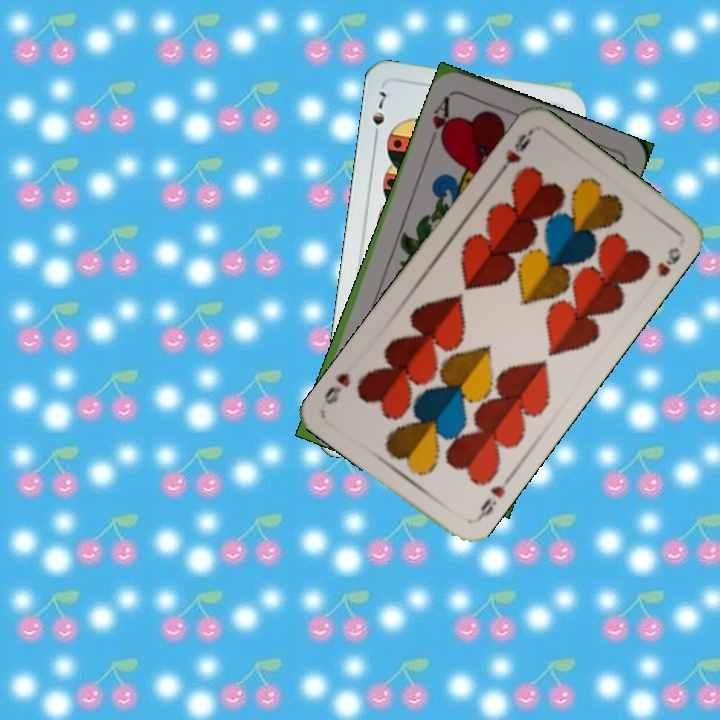H9: (493, 127, 535, 178), (472, 473, 514, 524)
HA: (428, 92, 455, 147)
S7: (368, 87, 389, 143)
